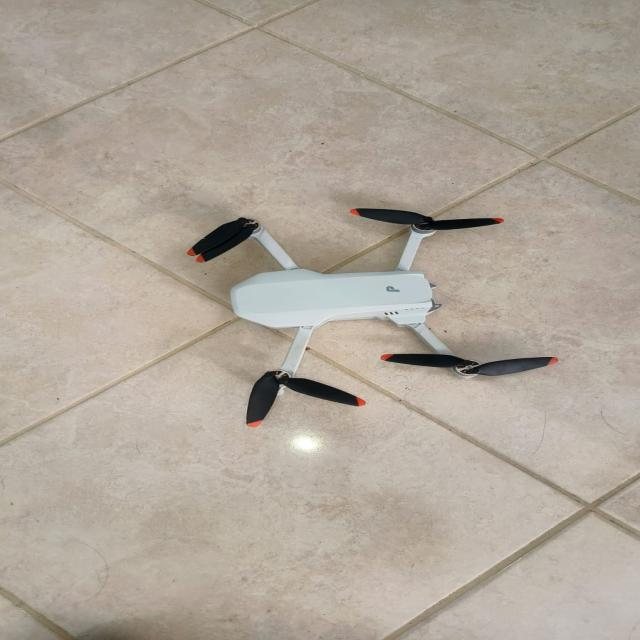alicate: (150, 171, 564, 437)
